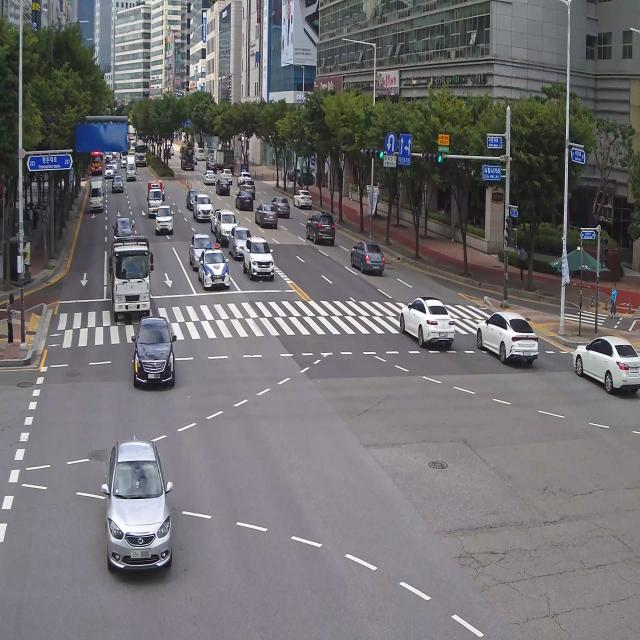Car: (95, 438, 180, 580), (382, 280, 457, 369), (565, 323, 640, 412), (466, 294, 538, 376), (127, 310, 179, 396), (237, 226, 279, 289), (195, 237, 234, 297), (344, 234, 388, 283), (300, 207, 340, 256), (156, 202, 177, 250), (252, 201, 279, 226), (234, 190, 258, 213), (269, 194, 291, 217), (292, 188, 316, 209), (214, 177, 234, 197), (201, 168, 217, 188)
Truck: (102, 223, 158, 329), (86, 172, 106, 221), (124, 150, 140, 188), (135, 136, 147, 172)
